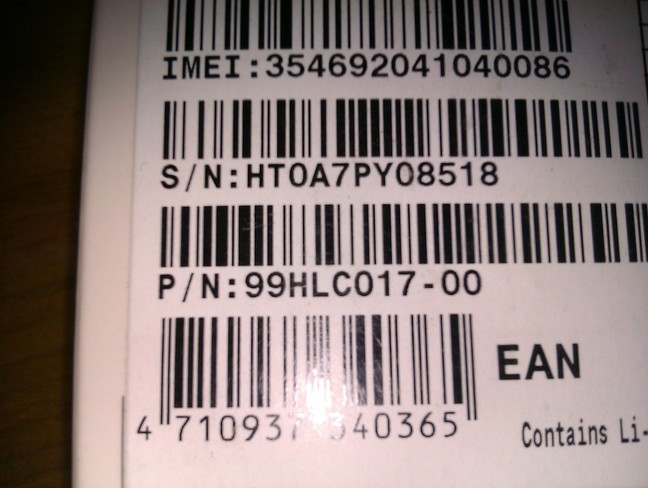detection: (122, 301, 499, 448)
